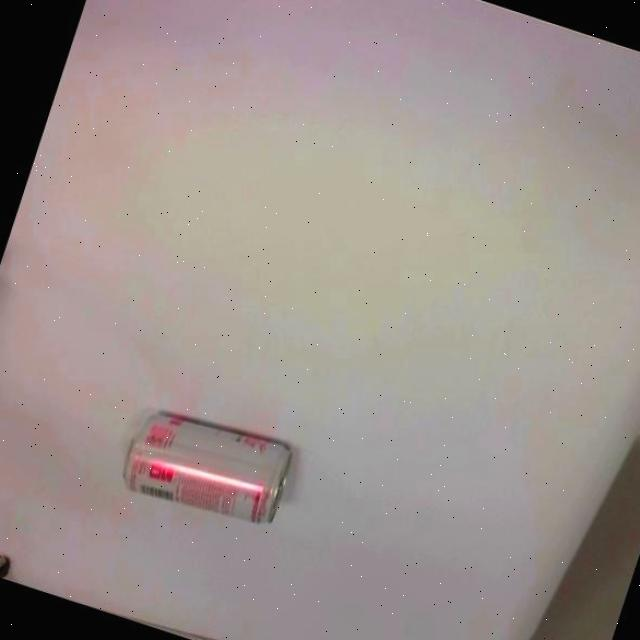debris: (114, 397, 298, 537)
